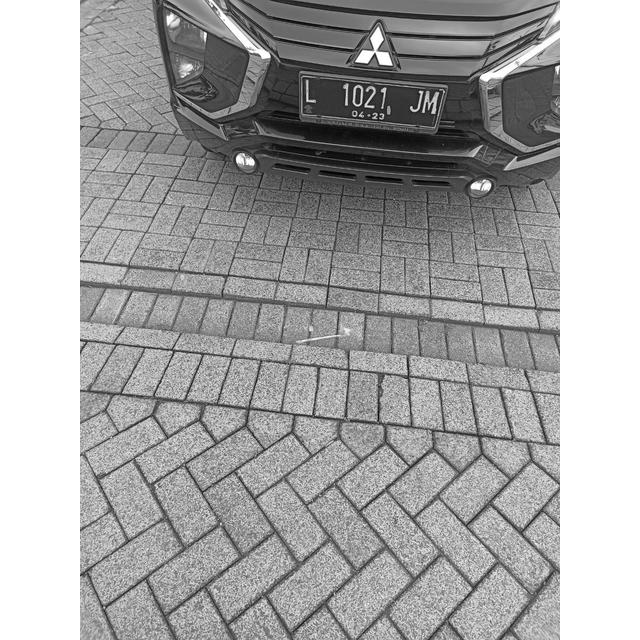license: (303, 77, 440, 124)
